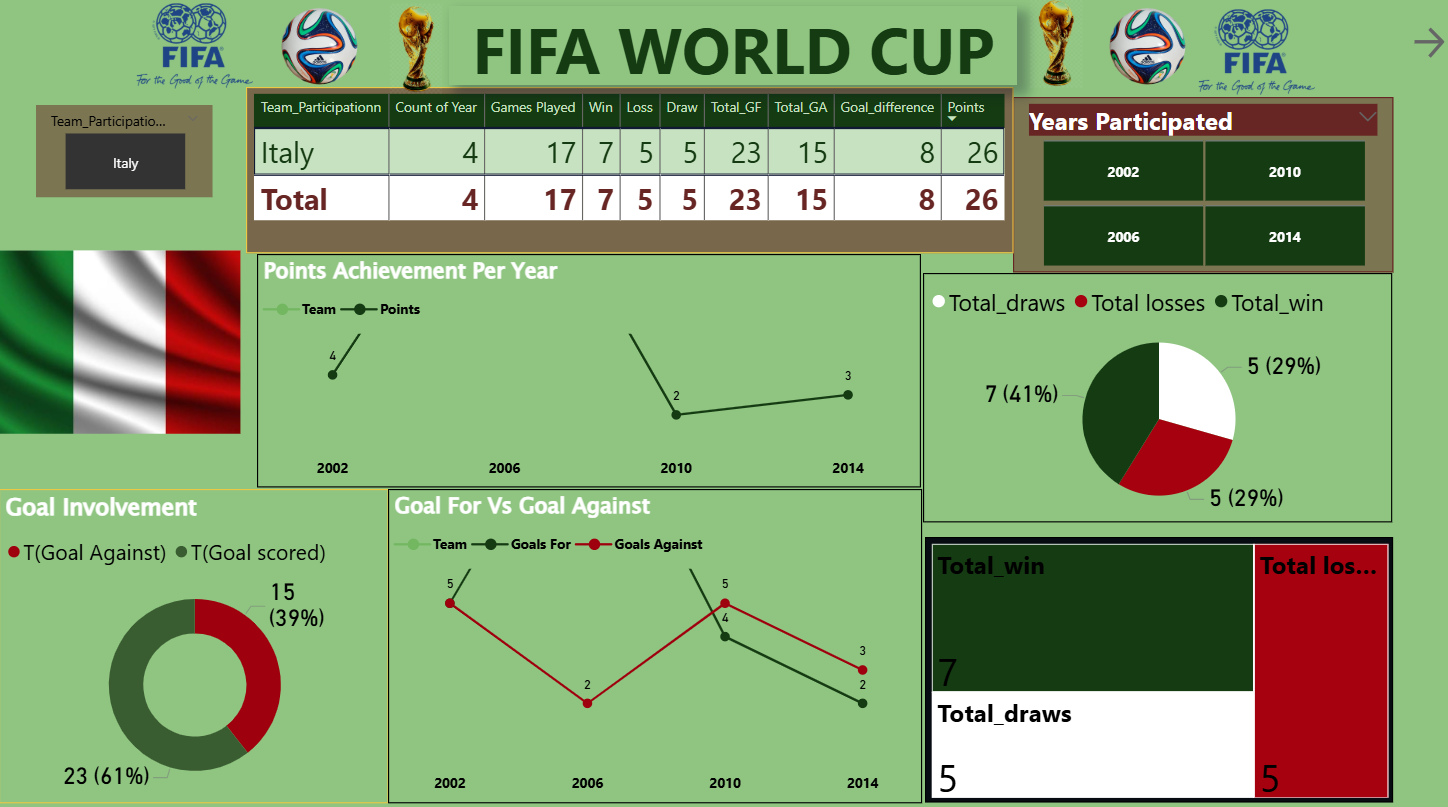

The page's visual inventory and layout, read from the dashboard file:
{"tool":"powerbi","page":{"name":"Team Italy","canvas":[1280,720],"ordinal":5},"visuals":[{"type":"slicer","fields":{"Values":["WC_02-20.Year"]},"box":[897.2,92,333.6,154.5],"z":0},{"type":"donutChart","title":"Goal Involvement","fields":{"Y":["DAX1.Total_GA","DAX1.Total_GF"]},"box":[6.6,436,341.9,275.8],"z":1000},{"type":"treemap","fields":{"Values":["DAX1.T(Draws)","DAX1.Total_win","DAX1.Total losses"]},"box":[819.9,478.2,410.8,233.3],"z":2000},{"type":"lineChart","title":"Goal For Vs Goal Against","fields":{"Category":["WC_02-20.Year"],"Y2":["Sum(WC_02-20.Goals For)","Sum(WC_02-20.Goals Against)"],"Y":["CountNonNull(Team.Team_Participationn)"]},"box":[348.5,436,469.1,275.8],"z":3000},{"type":"tableEx","fields":{"Values":["Team.Team_Participationn","CountNonNull(WC_02-20.Year)","Sum(WC_02-20.Games Played)","Sum(WC_02-20.Win)","Sum(WC_02-20.Loss)","Sum(WC_02-20.Draw)","DAX1.Total_GF","DAX1.Total_GA","DAX1.Goal_difference","Sum(WC_02-20.Points)"]},"box":[223.5,83.8,673.7,146.2],"z":4000},{"type":"textbox","title":"FIFA WORLD CUP","box":[401.7,12.7,499.3,69.3],"z":5000},{"type":"image","box":[817.6,0,236.2,89.1],"z":6000},{"type":"image","box":[236.2,5.7,273,89.1],"z":7000},{"type":"image","box":[123.1,0,111.7,94.8],"z":8000},{"type":"image","box":[1055.2,5.7,111.7,94.8],"z":9000},{"type":"image","box":[239.1,0,99,94.8],"z":10000},{"type":"image","box":[966.1,0,99,94.8],"z":11000},{"type":"actionButton","box":[1244,24.6,36,39.3],"z":12000},{"type":"pieChart","fields":{"Y":["DAX1.T(Draws)","DAX1.Total losses","DAX1.Total_win"]},"box":[818.3,246.5,412.4,218.5],"z":13000},{"type":"lineChart","title":"Points Achievement Per Year","fields":{"Category":["WC_02-20.Year"],"Y":["CountNonNull(Team.Team_Participationn)"],"Y2":["Sum(WC_02-20.Points)"]},"box":[233.3,230,583.3,205.4],"z":14000},{"type":"slicer","fields":{"Values":["Team.Team_Participationn"]},"box":[39.3,99.6,155.2,81.4],"z":15000},{"type":"image","box":[0,180.9,223.9,252],"z":15001}]}

Visuals, with their boxes in screenshot pixels (x1, y1, x2, y2), scaled from the page's 1280x720 canvas onto the 1448x807 screenshot:
slicer - WC_02-20.Year: locate(1015, 103, 1392, 276)
"Goal Involvement" donutChart: locate(7, 489, 394, 798)
treemap - DAX1.T(Draws) x DAX1.Total_win: locate(928, 536, 1392, 797)
"Goal For Vs Goal Against" lineChart: locate(394, 489, 925, 798)
tableEx - Team.Team_Participationn x CountNonNull(WC_02-20.Year): locate(253, 94, 1015, 258)
"FIFA WORLD CUP" textbox: locate(454, 14, 1019, 92)
image: locate(925, 0, 1192, 100)
image: locate(267, 6, 576, 106)
image: locate(139, 0, 266, 106)
image: locate(1194, 6, 1320, 113)
image: locate(270, 0, 382, 106)
image: locate(1093, 0, 1205, 106)
actionButton: locate(1407, 28, 1447, 72)
pieChart - DAX1.T(Draws) x DAX1.Total losses: locate(926, 276, 1392, 521)
"Points Achievement Per Year" lineChart: locate(264, 258, 924, 488)
slicer - Team.Team_Participationn: locate(44, 112, 220, 203)
image: locate(0, 203, 253, 485)
